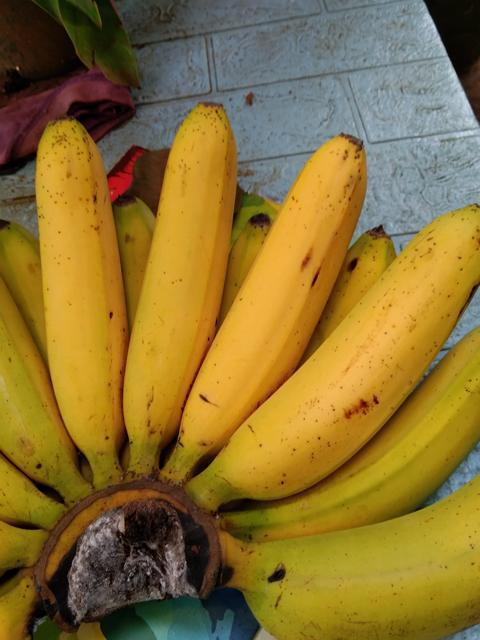freshripe: (262, 314, 479, 552), (114, 92, 240, 457), (27, 110, 137, 455), (215, 505, 479, 639)
ripe: (194, 198, 479, 502), (173, 125, 366, 469)
